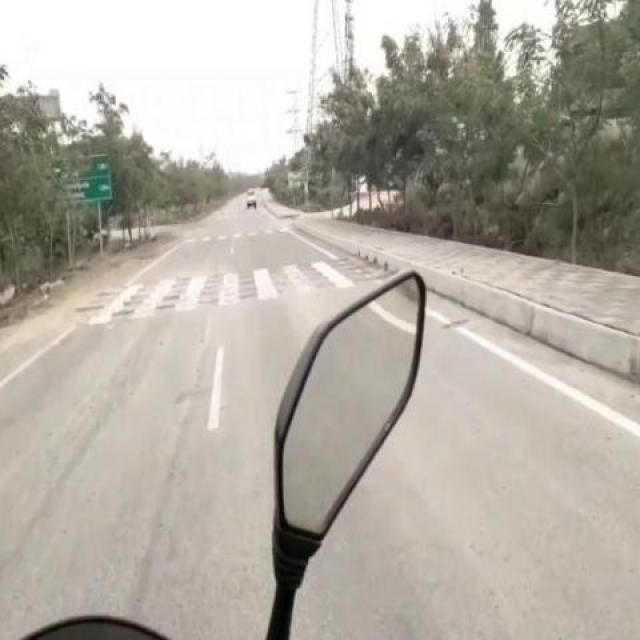Speed Bump: (98, 260, 320, 322)
